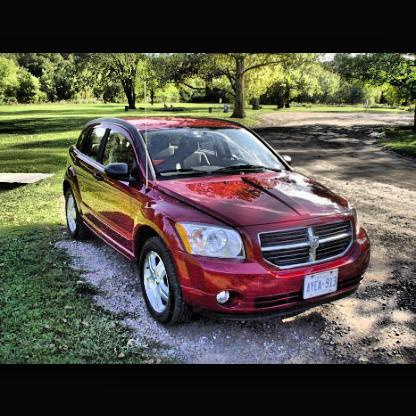Dodge Caliber Wagon 2007: (65, 116, 374, 331)
